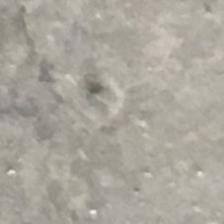Non_Crack: (26, 15, 202, 192)
